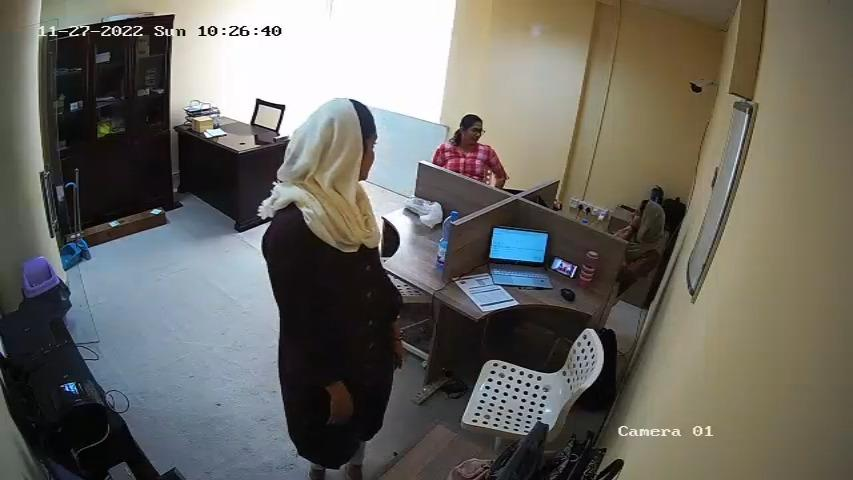no_apron: (277, 205, 379, 378)
